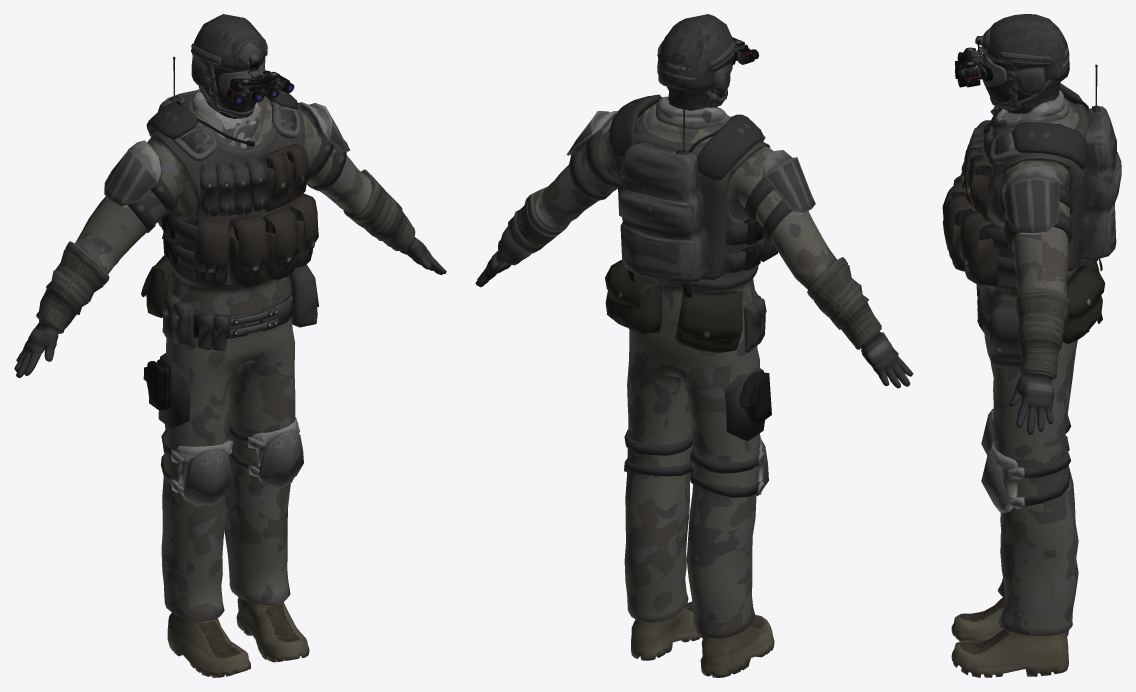
The model's file is SCP_MTF.gltf.
3 views of the same model, side by side, from view 1: azimuth 30°, elevation 25°; view 2: azimuth 150°, elevation 25°; view 3: azimuth 270°, elevation 25° (orthographic).
Visible parts, largest first — view 1: Body; view 2: Body; view 3: Body.
Part boxes in pixels (x1=…): Body: x1=14, y1=14, x2=446, y2=677; Body: x1=475, y1=14, x2=913, y2=677; Body: x1=942, y1=14, x2=1121, y2=677.
Size of the model in its own units: 1.96 by 2.76 by 0.7034.
4 materials, 4 textured.
